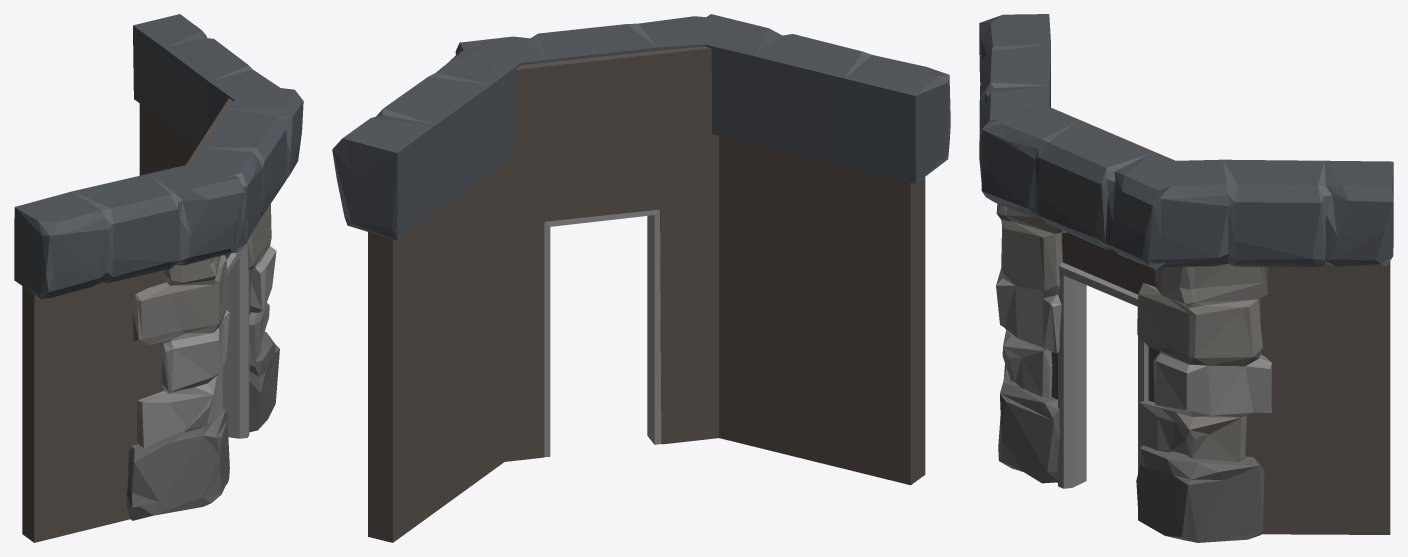
File: MCastle_OctWalls_HeavyTrim_Door.FBX
3 views of the same model, side by side, from view 1: azimuth 30°, elevation 25°; view 2: azimuth 150°, elevation 25°; view 3: azimuth 270°, elevation 25° (orthographic). The views are drawn at different scales.
Visible parts, largest first — view 1: MCastle_OctWalls_HeavyTrim_Door_Trim_LOD0; view 2: MCastle_OctWalls_HeavyTrim_Door_Trim_LOD0; view 3: MCastle_OctWalls_HeavyTrim_Door_Trim_LOD0.
Part boxes in pixels (x1,y1,x2,y2): MCastle_OctWalls_HeavyTrim_Door_Trim_LOD0: (14,14,303,542); MCastle_OctWalls_HeavyTrim_Door_Trim_LOD0: (332,14,950,542); MCastle_OctWalls_HeavyTrim_Door_Trim_LOD0: (979,14,1393,542).
Size of what is drawn, in the model's own units: 4.83 by 4.5 by 4.69.
